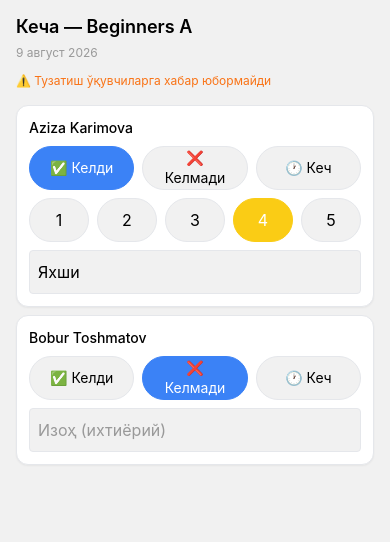
Yesterday — correcting › never sends a grade for a student corrected to absent
The image size is (390, 542).
Expected: the heading "Кеча — Beginners A" is shown, [16,16,192,37]
Click the button "❌ Келмади" below "Aziza Karimova" at (195, 168), box [142,146,248,190]
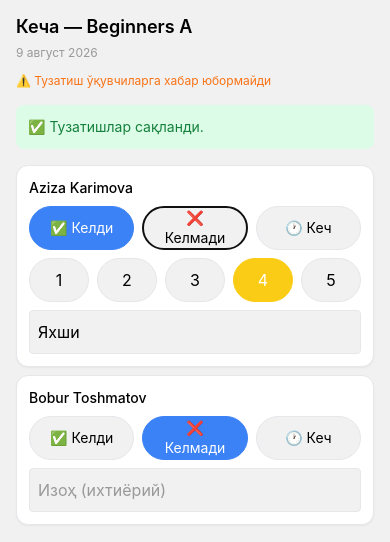
Expected: the text "✅ Тузатишлар сақланди." is shown, [16,105,374,149]
